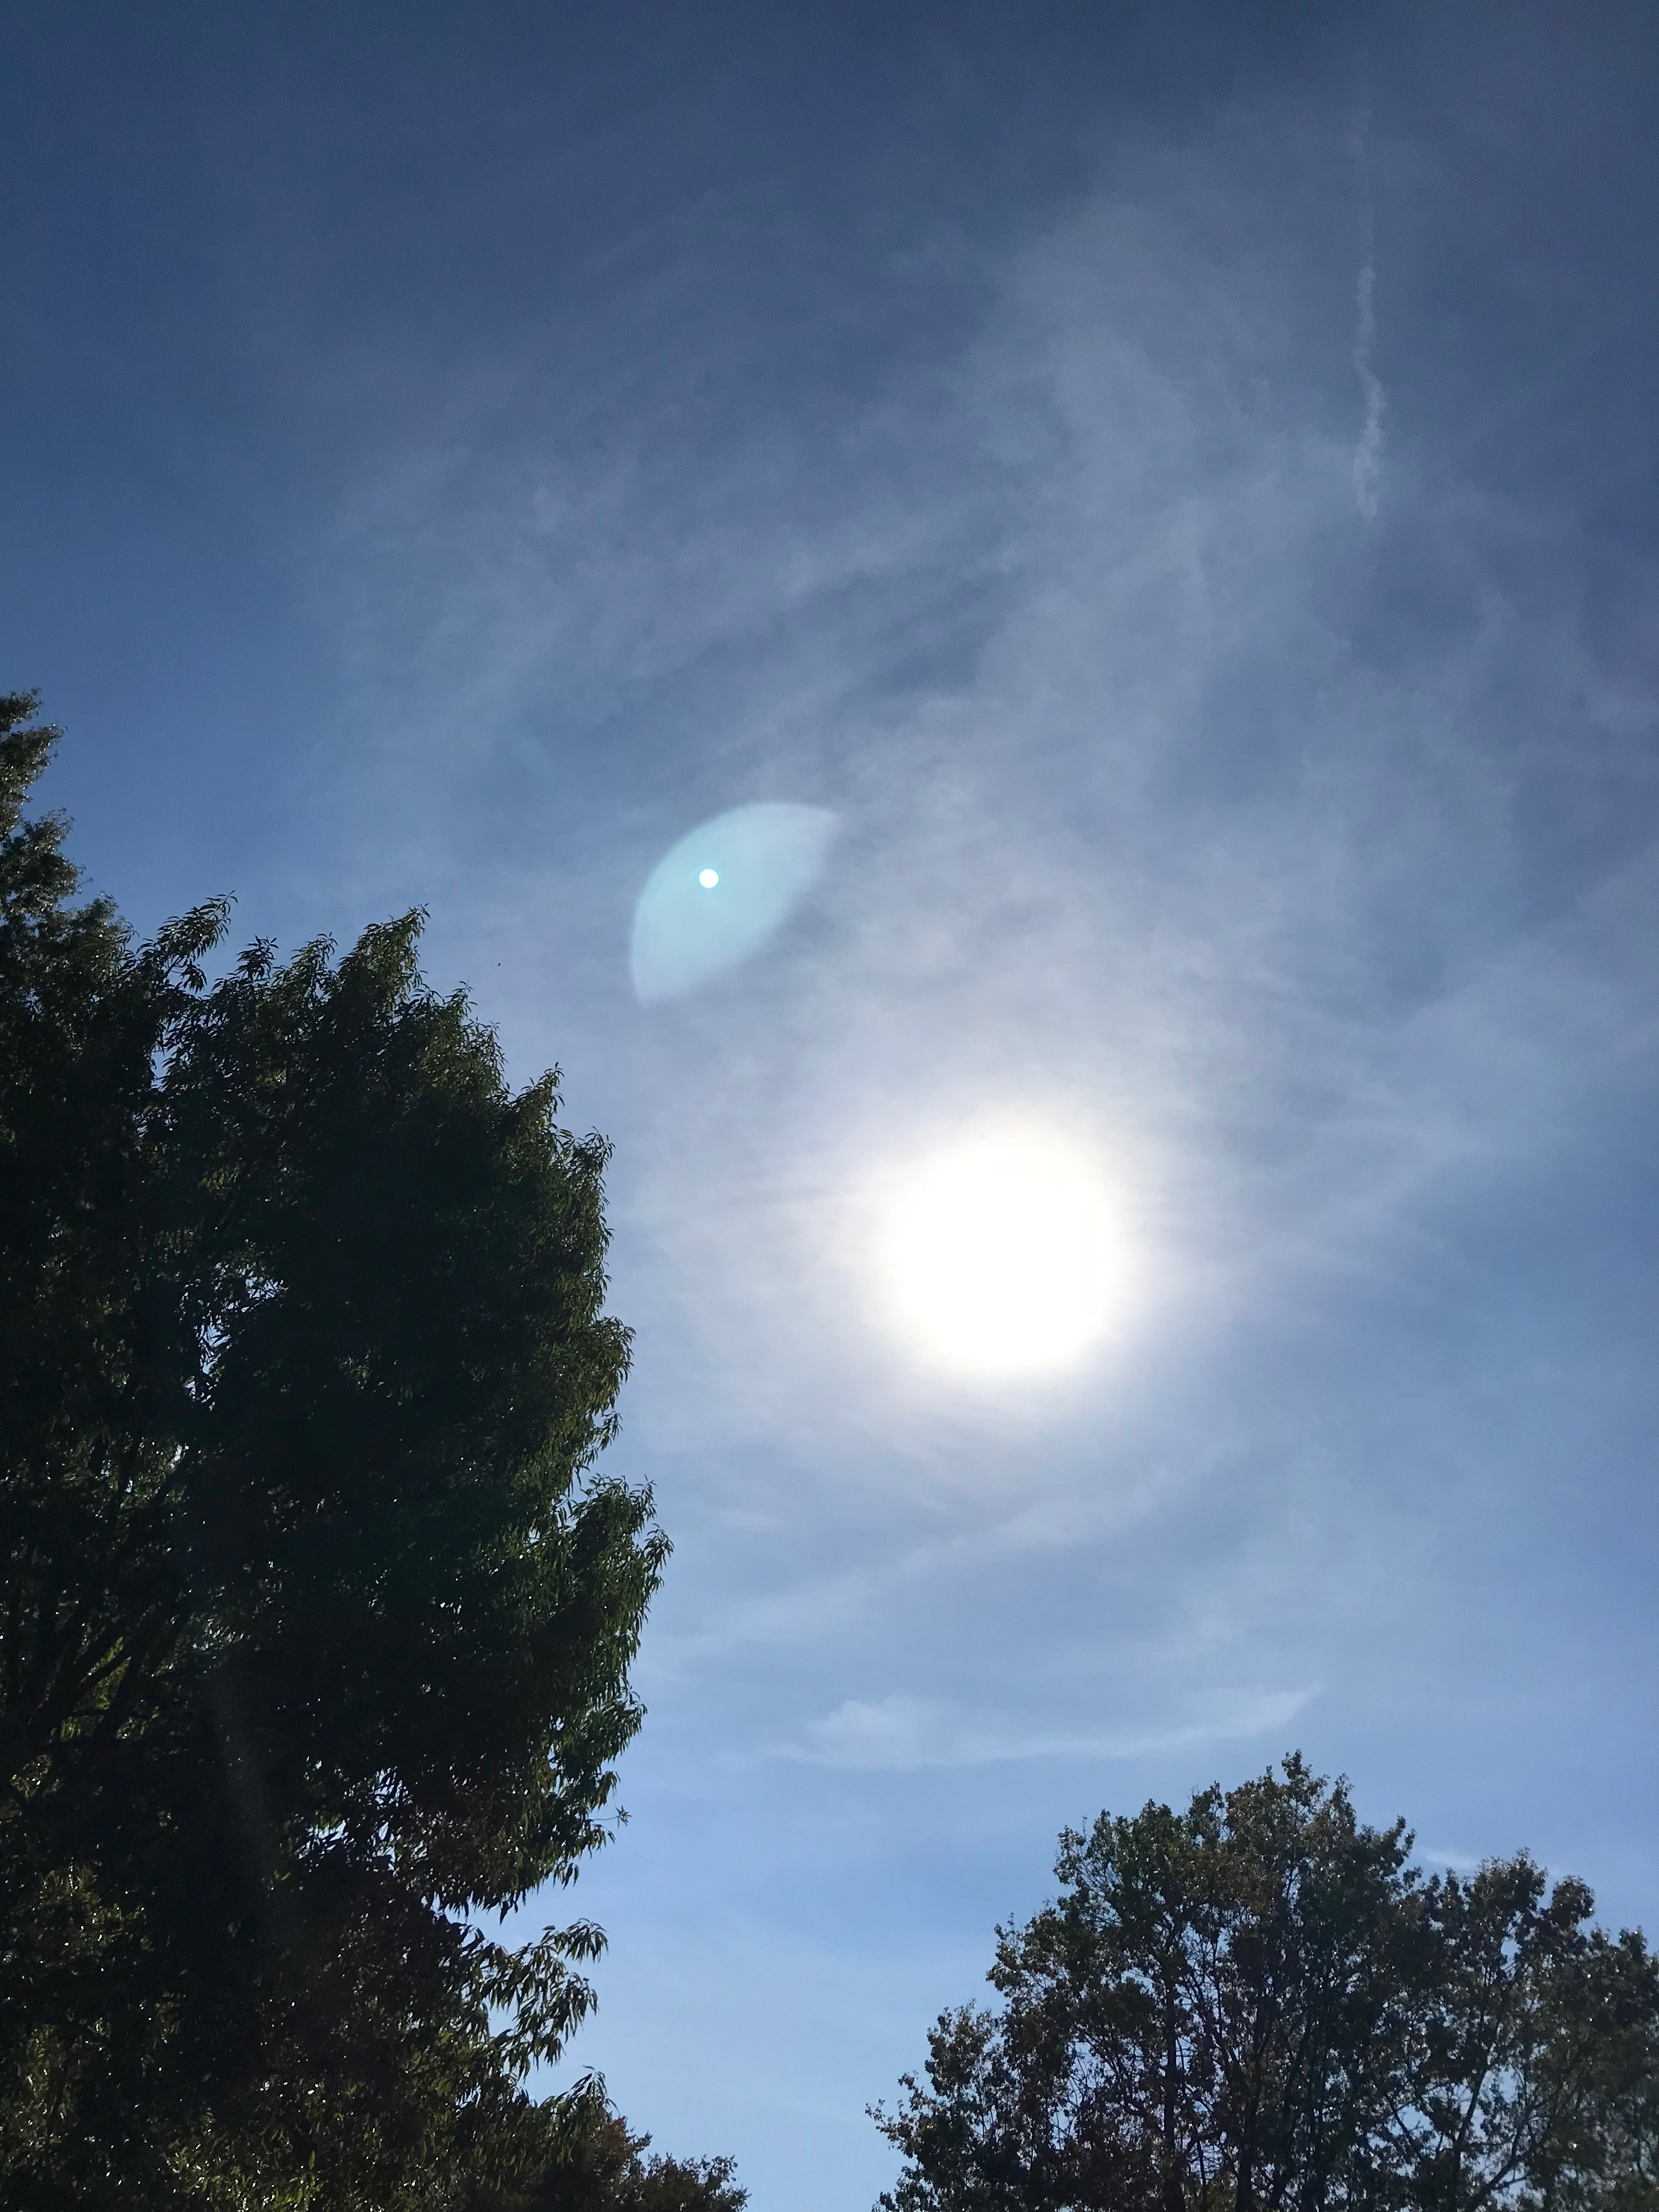flare: (697, 867, 721, 890)
